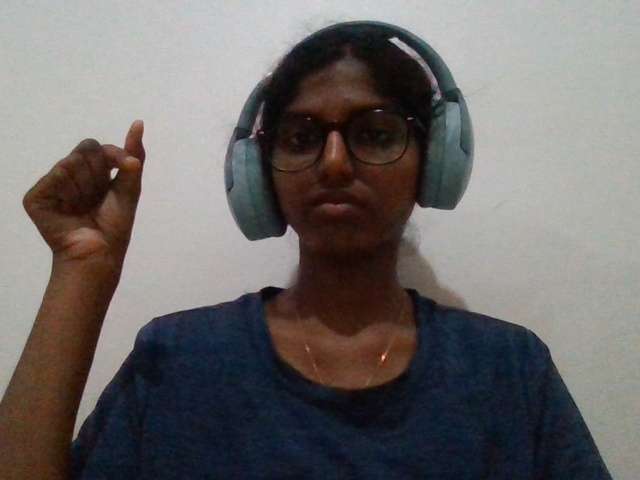G: (7, 110, 180, 406)
